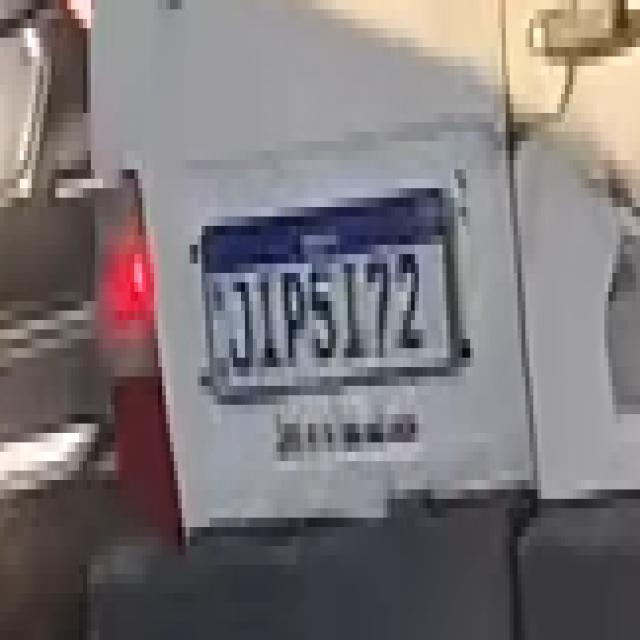Placa_mercosul_carro: (199, 187, 466, 403)
